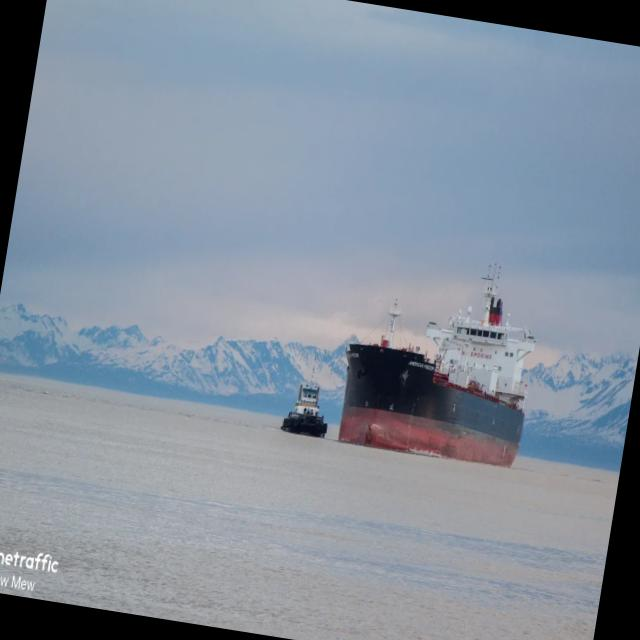Tanker: (339, 275, 534, 467)
Tug: (281, 376, 327, 437)
